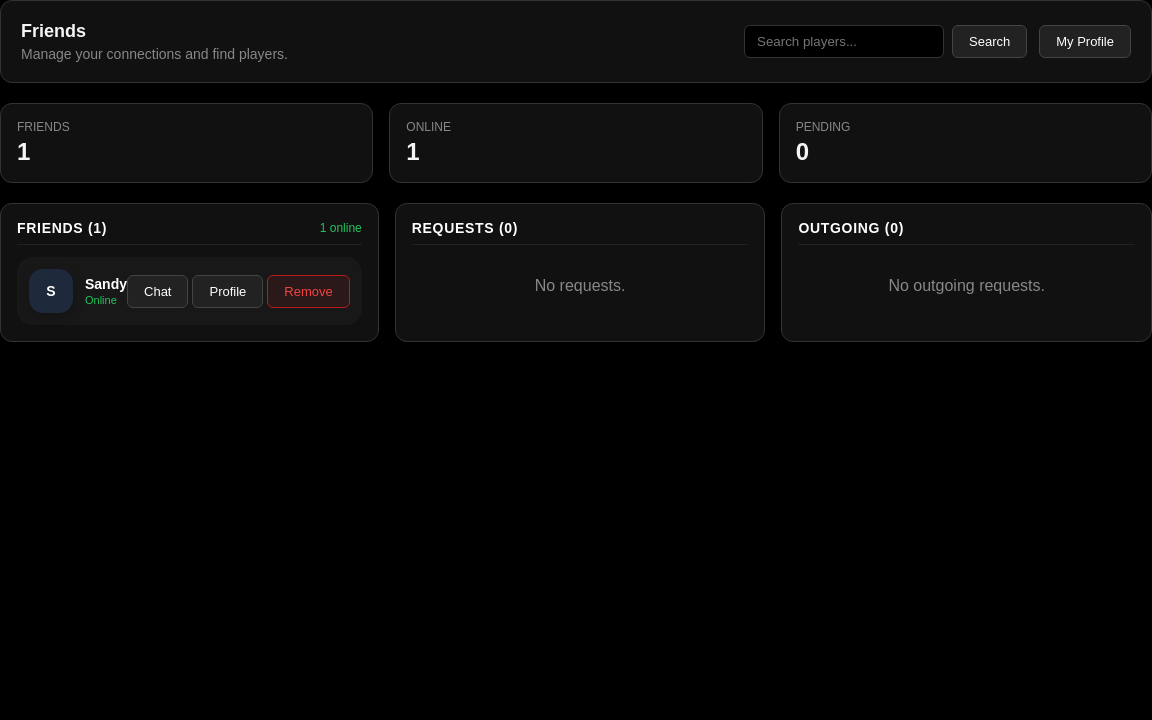
Scenario: SocialFriendsTab › keeps the friends list visible while searching for another player
Type "Nova" into the field with class "search-input". click: coordinates (844, 42)
box: [744,25,944,58]
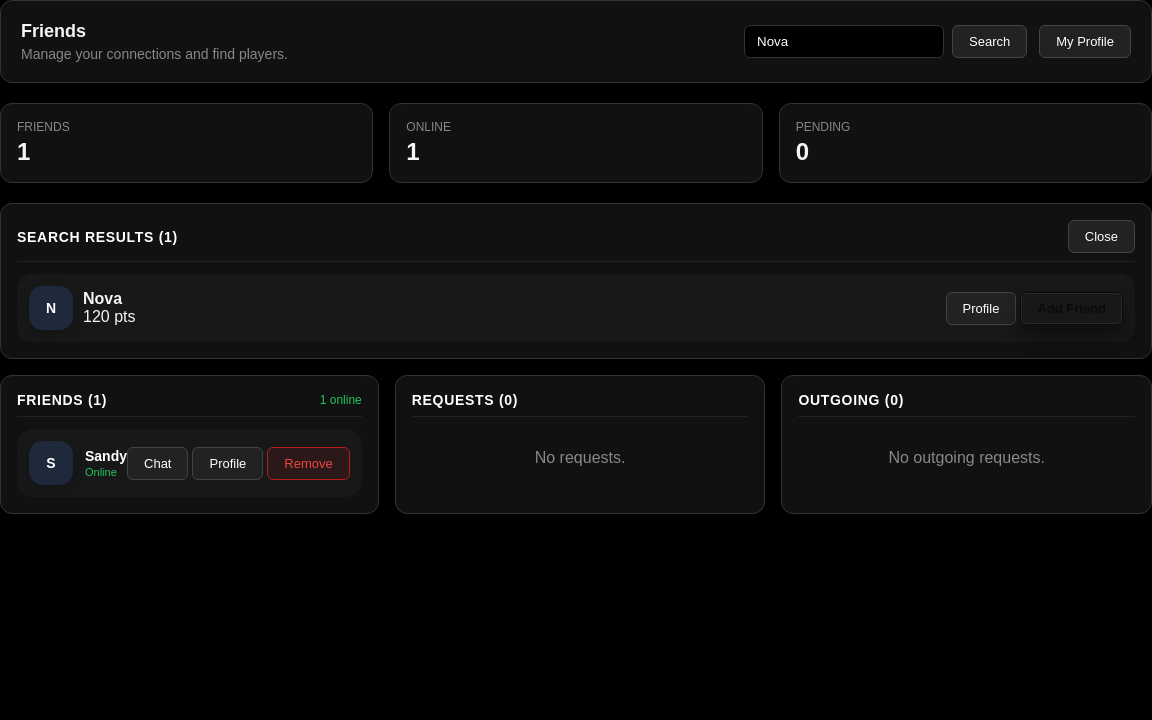
Expected: the text "Sandy" is shown, [85,448,127,464]
Result: the text "Nova" is shown at [83,290,122,307]
Result: the element showing "Search Results (1) Close N Nova 120 pts Profile Add Friend" is shown at [0,203,1151,359]
